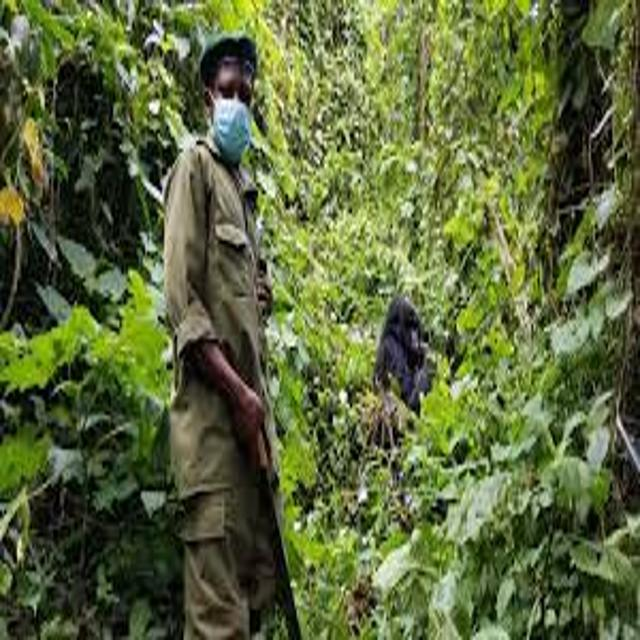poacher: (87, 24, 405, 640)
